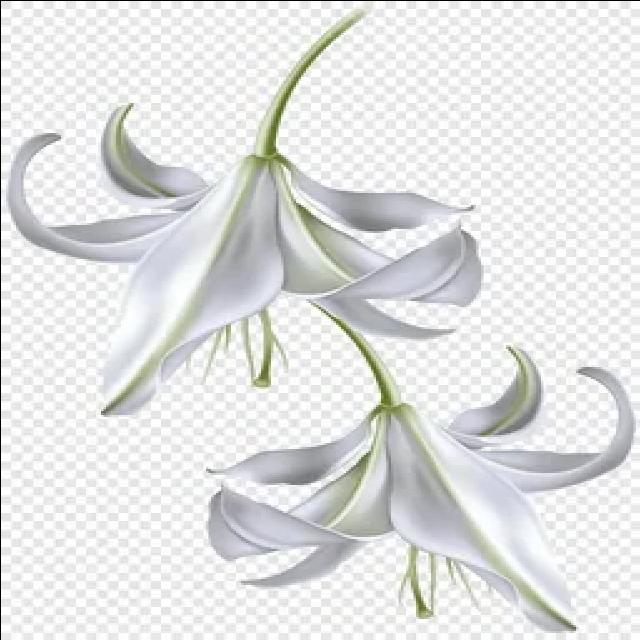lily: (0, 96, 490, 420)
